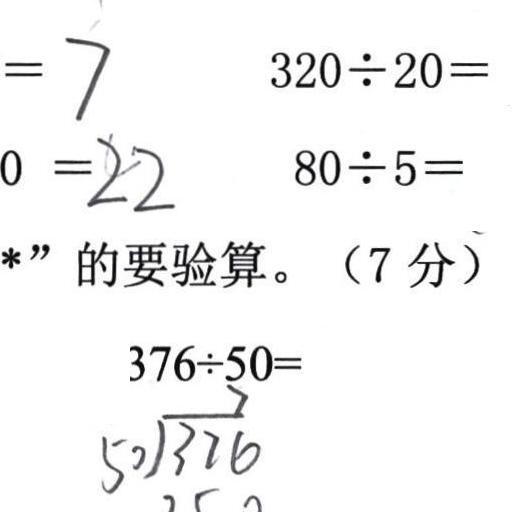ans: (82, 129, 173, 214), (59, 27, 112, 119)
